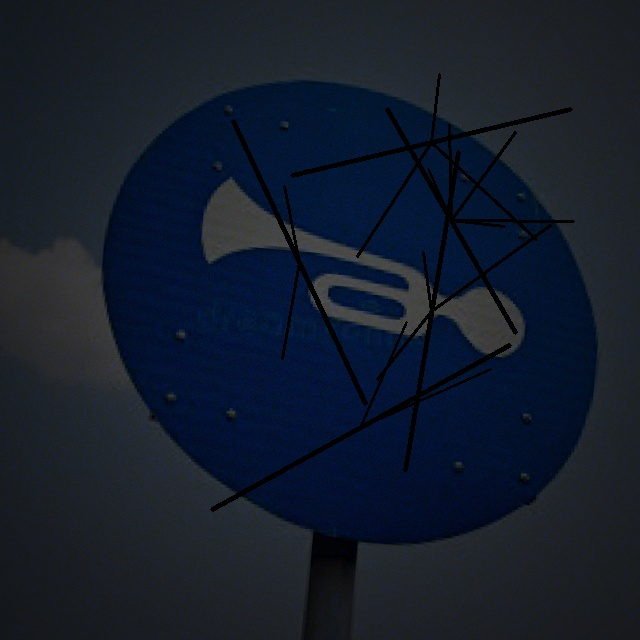Compulsory_Sound_Horn: (90, 63, 612, 548)
